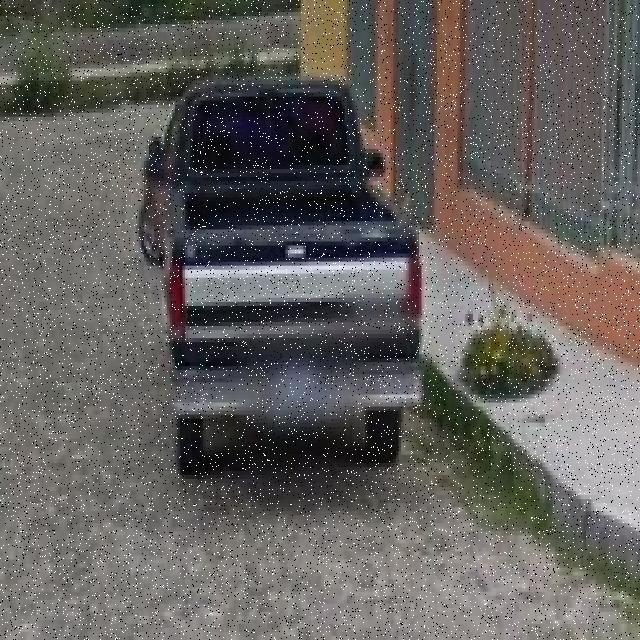cars: (147, 75, 427, 478)
